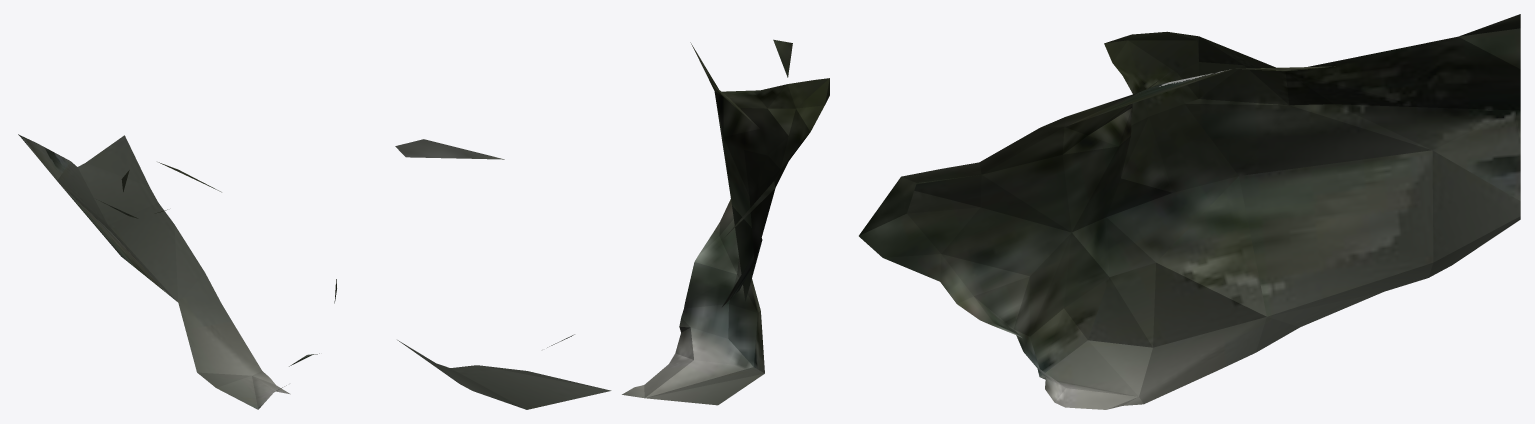
3 views of the same model, side by side, from view 1: azimuth 30°, elevation 25°; view 2: azimuth 150°, elevation 25°; view 3: azimuth 270°, elevation 25° (orthographic). The views are drawn at different scales.
Bounding box in the file's own units: 0.3659 × 0.7646 × 1.27.
Materials: 1 (1 with a texture image).
